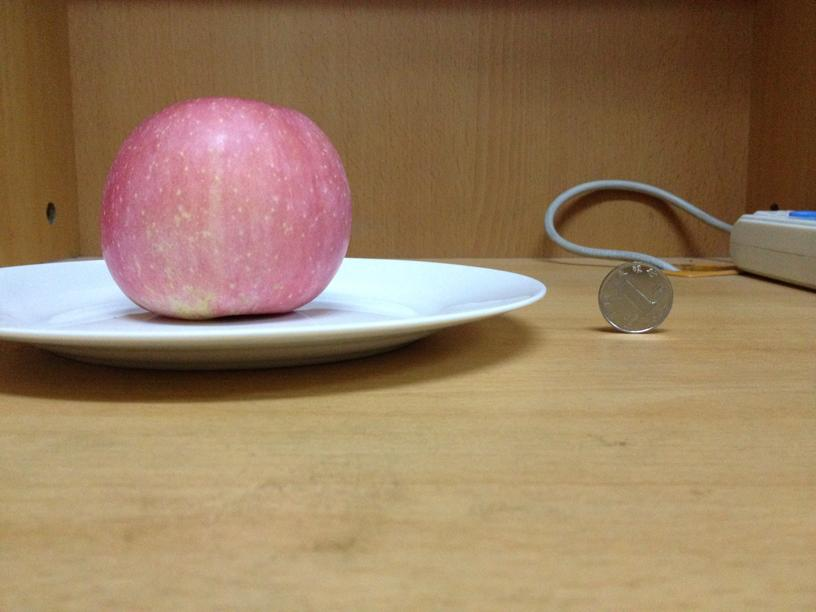apple: (101, 95, 351, 319)
coin: (598, 262, 675, 334)
